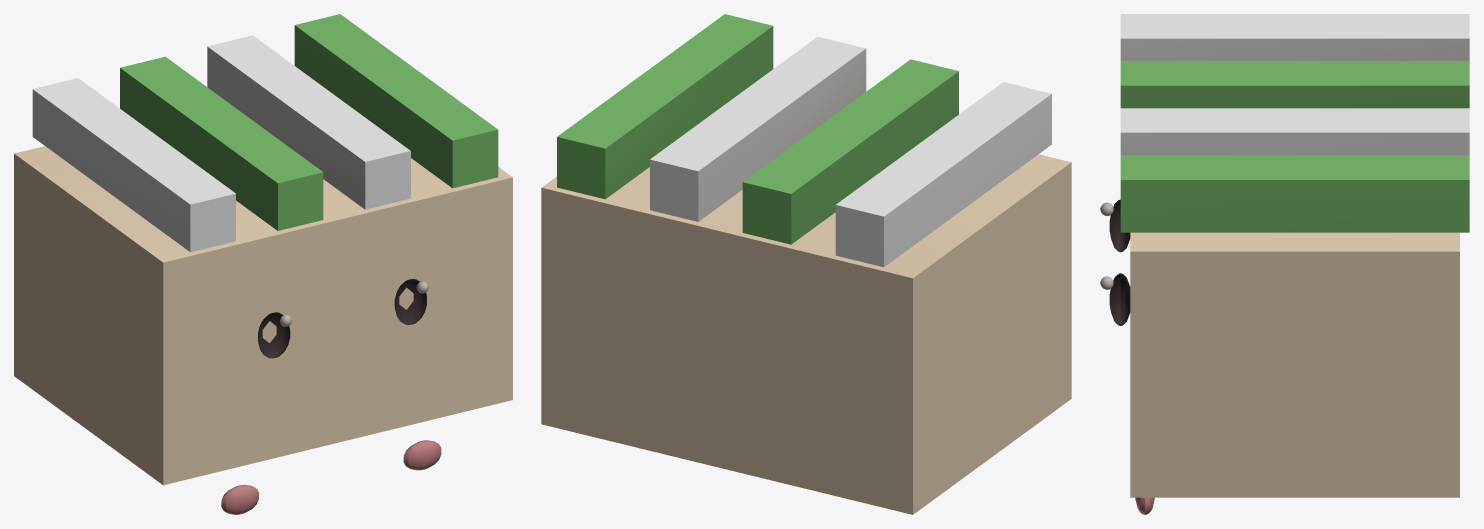
Rendered from pdb95d4d4.glb.
3 views of the same model, side by side, from view 1: azimuth 30°, elevation 25°; view 2: azimuth 150°, elevation 25°; view 3: azimuth 270°, elevation 25° (orthographic). The views are drawn at different scales.
Visible parts, largest first — view 1: pet_pdb95d4d4; view 2: pet_pdb95d4d4; view 3: pet_pdb95d4d4.
Part boxes in pixels (x1,y1,x2,y2): pet_pdb95d4d4: (14, 14, 512, 514); pet_pdb95d4d4: (541, 14, 1071, 514); pet_pdb95d4d4: (1100, 14, 1469, 514).
Size of the model in its own units: 0.46 by 0.4176 by 0.3809.
